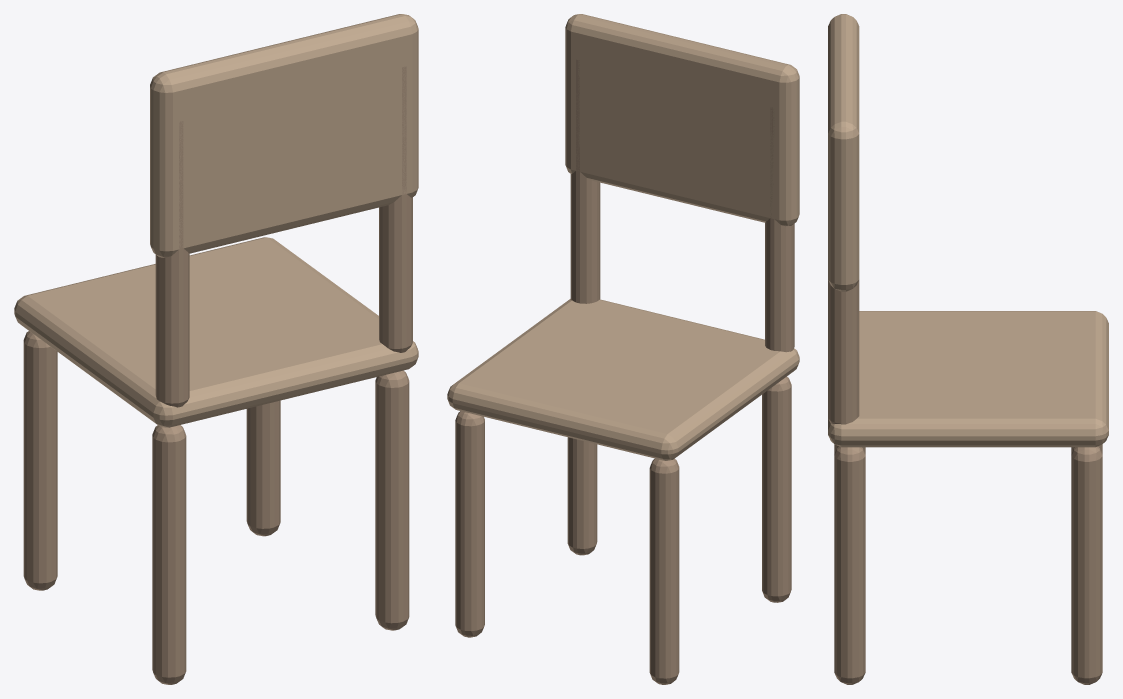
Rendered from kit_moveis_cadeira.glb.
The picture shows the model from 3 angles, left to right: view 1: azimuth 30°, elevation 25°; view 2: azimuth 150°, elevation 25°; view 3: azimuth 270°, elevation 25°; orthographic projection. The views are drawn at different scales.
Parts seen in each view (by area): view 1: BED_Moveis_Cadeira_v01; view 2: BED_Moveis_Cadeira_v01; view 3: BED_Moveis_Cadeira_v01.
Part boxes in pixels (x1,y1,x2,y2): BED_Moveis_Cadeira_v01: (14,14,418,684); BED_Moveis_Cadeira_v01: (447,14,799,684); BED_Moveis_Cadeira_v01: (828,14,1108,684).
Bounding box in the file's own units: 0.45 × 1 × 0.45.
